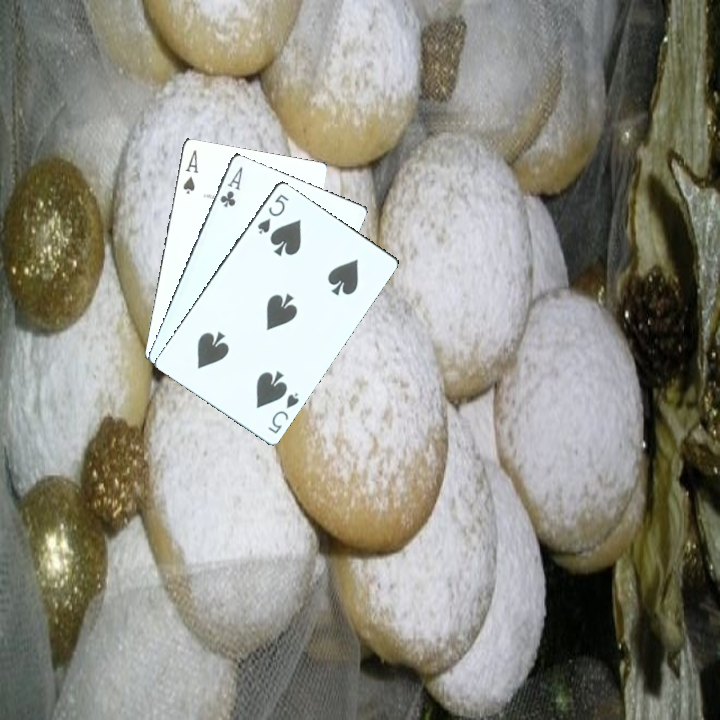5s: (253, 190, 291, 237), (264, 389, 301, 436)
Ac: (216, 162, 245, 210)
As: (179, 146, 201, 196)
